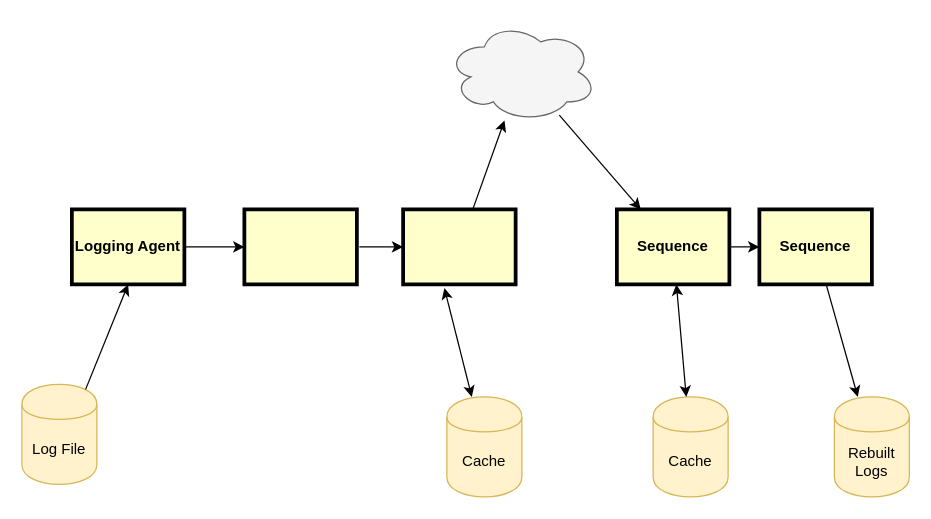
Image size: 931x519. Some labels were removed from this diagram. Each missing label, with the centre of its shape:
"Internet" belongs at [521,71].
"Package (ProtoBuf)" belongs at [300,246].
"Pump" belongs at [459,246].
